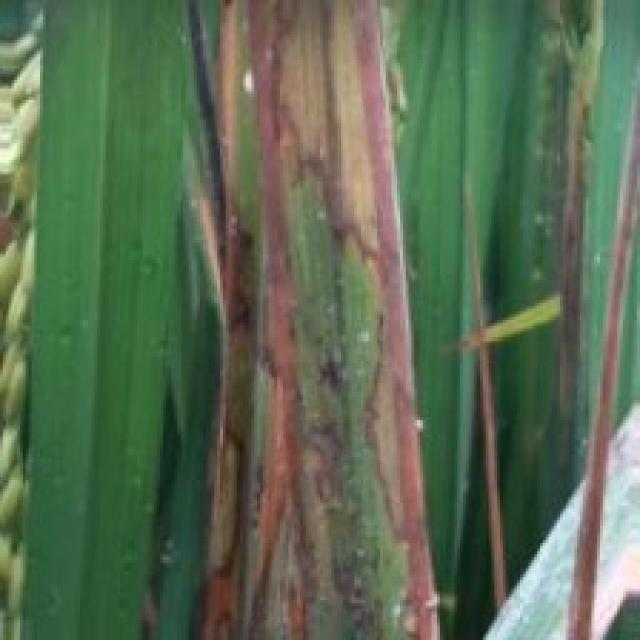Bacterial_Blight: (348, 308, 471, 636), (275, 0, 404, 278), (247, 297, 302, 640), (585, 131, 620, 640)
